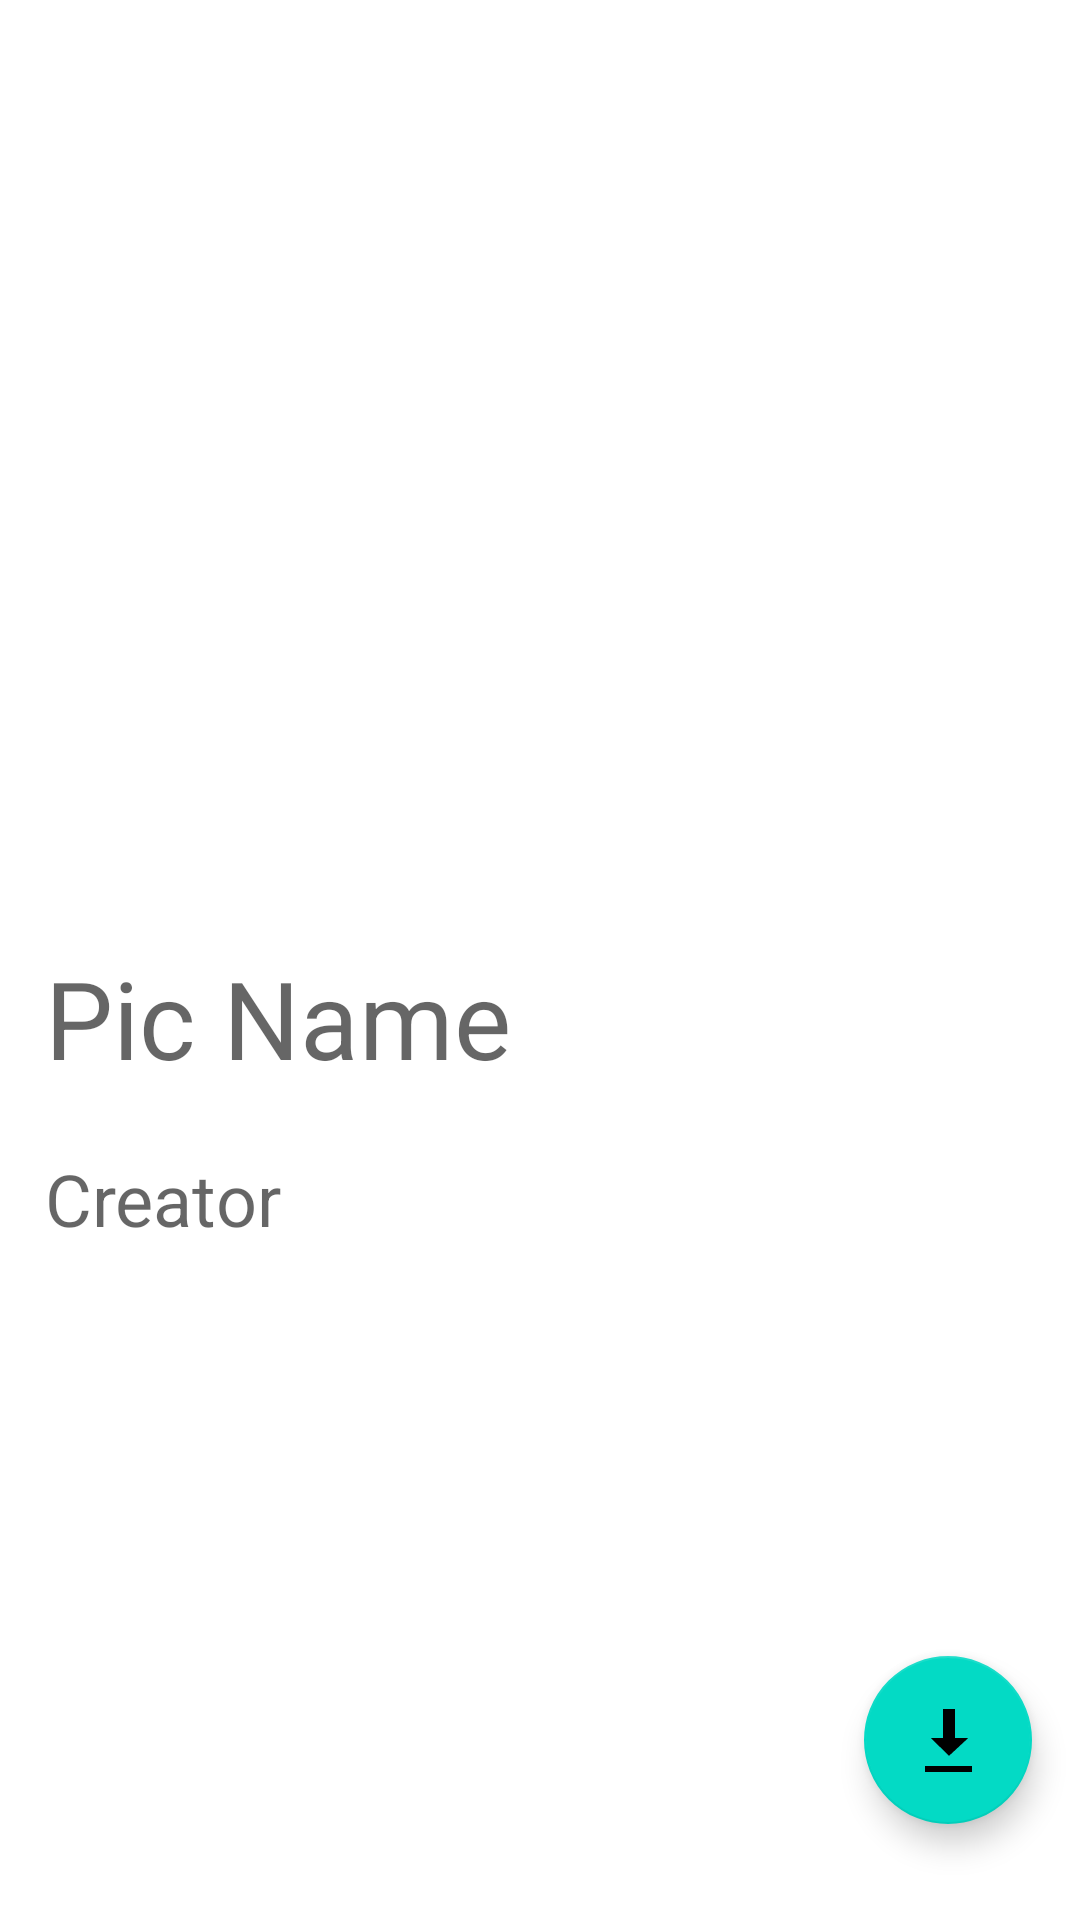

Screen size 1080 x 1920. Icon name, then its box in pixels as [x1=x1, y1=y1, x2=x2, y2=y2]:
download: [x1=864, y1=1656, x2=1032, y2=1824]
